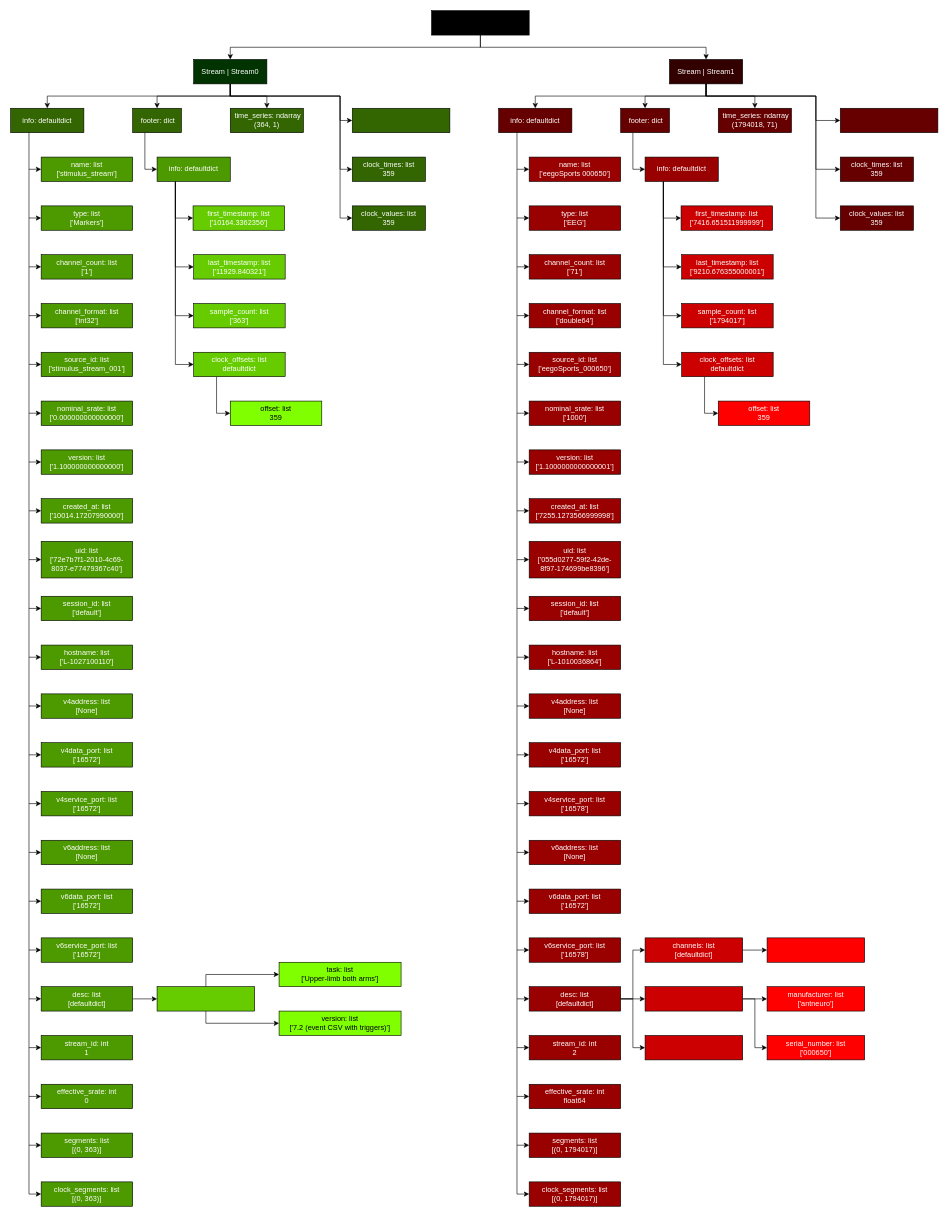
Image size: 949x1217. Some labels were removed from this diagram. Each missing label, with the centre of its shape:
"acquisition: list [ defaultdict]" goes at point 693,998.
"channels: list 71" goes at point 815,949.
"experiment: list [ ]" goes at point 693,1047.
"experiment: list [ defaultdict]" goes at point 205,998.
"Streams: list[Stream]" goes at point 480,22.
"time_stamps: ndarray ( 364, )" goes at point 401,120.
"time_stamps: ndarray (1794018,)" goes at point 889,120.
